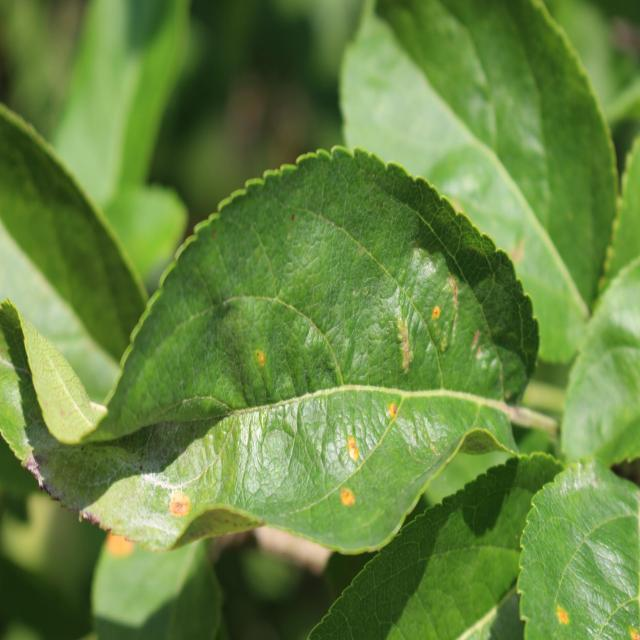Rust: (243, 331, 273, 398), (334, 419, 370, 474), (162, 485, 198, 525), (332, 478, 358, 527), (554, 575, 572, 640), (380, 393, 402, 440), (427, 296, 450, 338)
